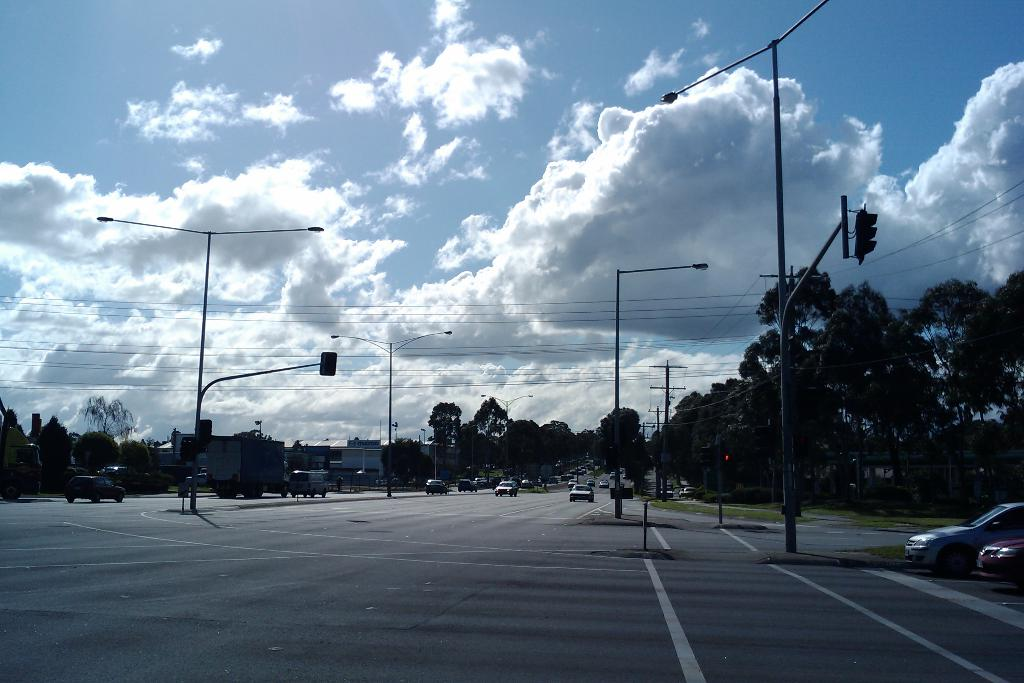Car: (903, 498, 1023, 581), (458, 461, 598, 497), (976, 539, 1023, 588), (65, 475, 127, 502), (423, 477, 448, 495), (569, 485, 594, 502), (683, 486, 694, 496), (659, 490, 673, 497), (600, 482, 608, 489), (608, 472, 616, 477), (678, 490, 683, 496)
